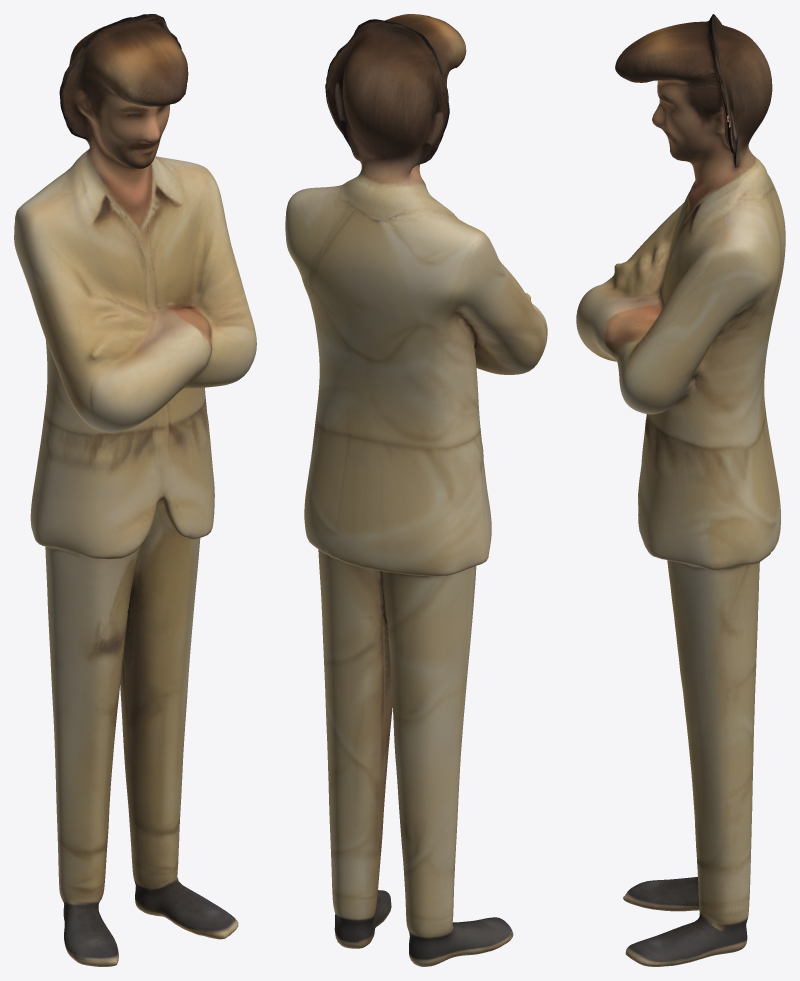
Rendered from atheist.glb.
The picture shows the model from 3 angles, left to right: view 1: azimuth 30°, elevation 25°; view 2: azimuth 150°, elevation 25°; view 3: azimuth 270°, elevation 25°; orthographic projection.
Size of the model in its own units: 0.4456 by 2 by 0.417.
1 material, 1 textured.
